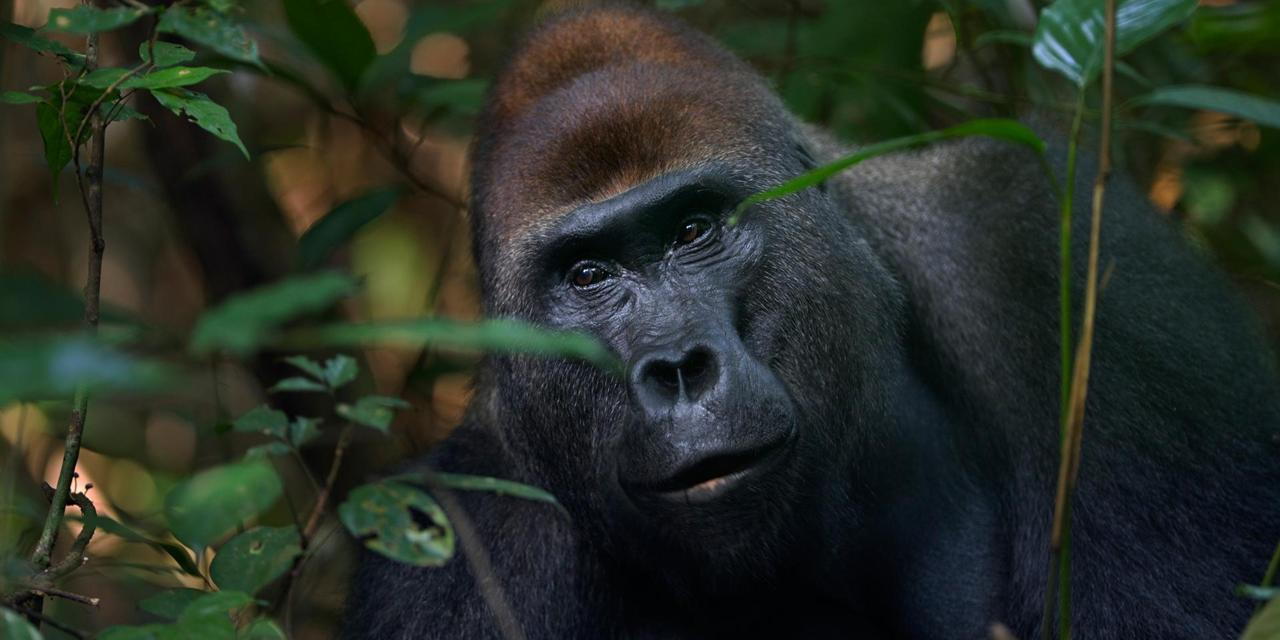Goriila: (351, 39, 1177, 640)
